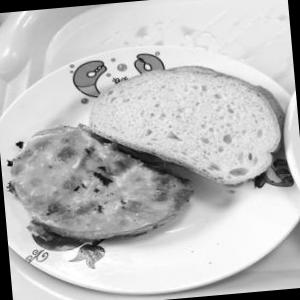bread: (82, 52, 284, 216)
cheese_sandwich: (0, 111, 178, 267)
